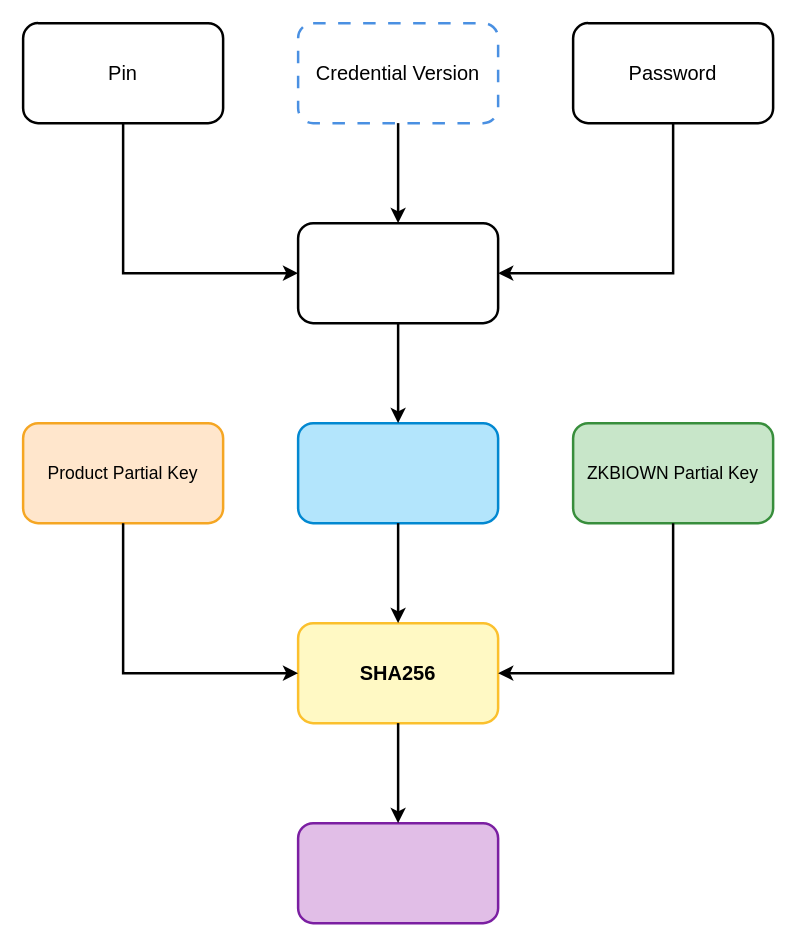
Some shapes in this 795 by 945 pixel diagram are drawn without their labels. The box of each missing label's shape, as (x1, y1, x2, y2) in pixels:
Composite Key (32 bytes): (296, 821, 499, 924)
Keypairs Sign Signature: (296, 221, 499, 324)
User's Partial Key: (296, 421, 499, 524)
